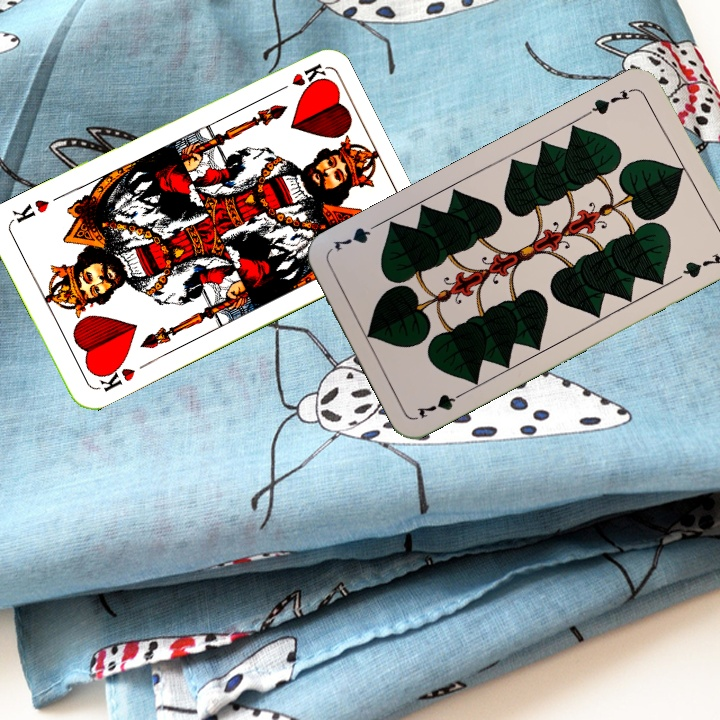G7: (413, 386, 470, 421), (582, 84, 638, 118)
HK: (269, 59, 327, 97), (92, 358, 138, 394)
